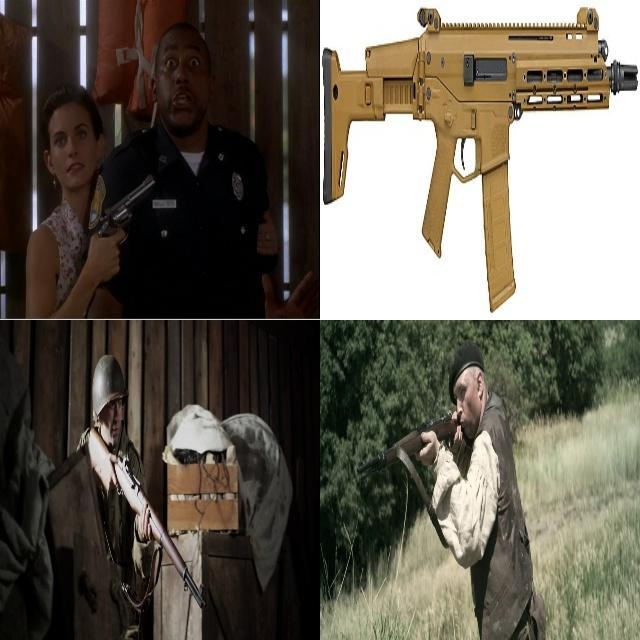gun-knife-thesis - v11 Yolov5 augmented: (321, 4, 635, 308), (87, 425, 204, 611), (356, 406, 470, 480), (95, 171, 156, 282)
